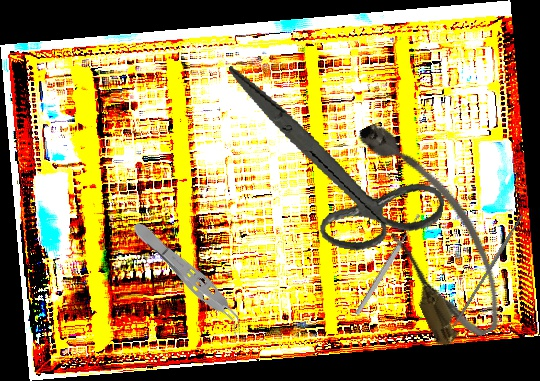Cannula: (344, 103, 517, 354)
Iris Scissors: (201, 65, 462, 265)
Scalpel Handle: (450, 214, 526, 329)
Surgical Spoon: (353, 212, 423, 317)
Tissue Forceps: (126, 216, 253, 339)
